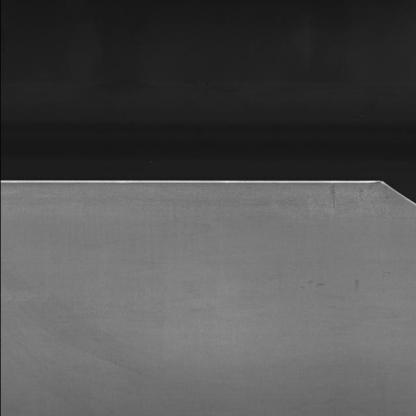crescent_gap: (361, 172, 416, 212)
